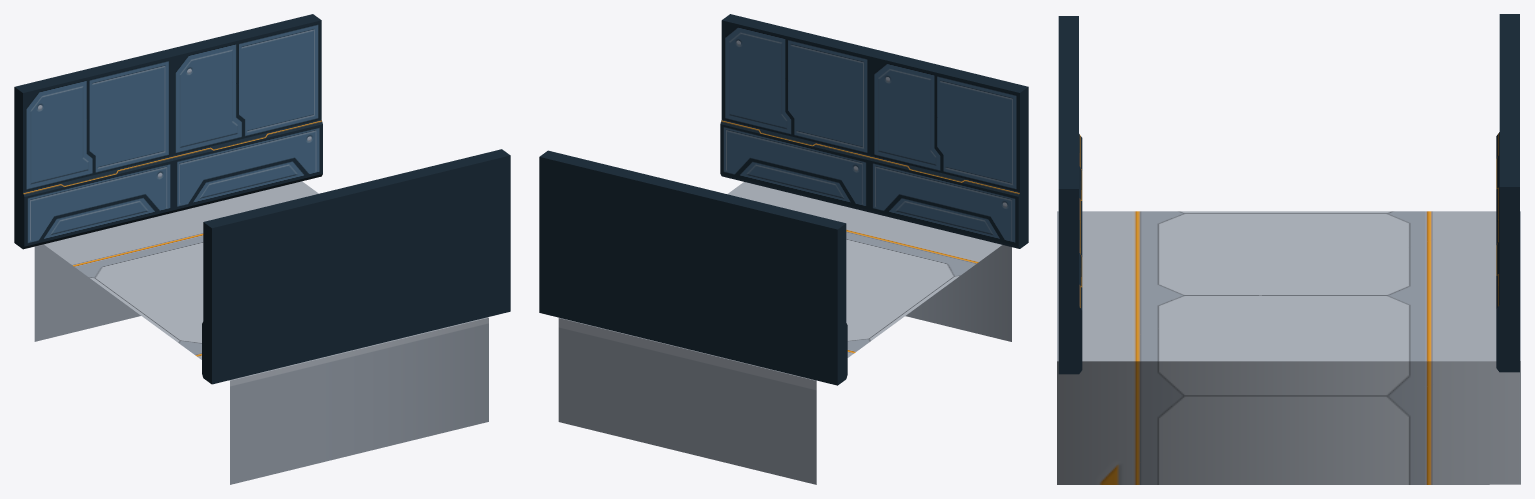
Rendered from lorong2.dae.
3 renders of one model, left to right at view 1: azimuth 30°, elevation 25°; view 2: azimuth 150°, elevation 25°; view 3: azimuth 270°, elevation 25°, orthographic. The views are drawn at different scales.
Parts seen in each view (by area): view 1: Cube.098, Cube.134, Cube.135; view 2: Cube.098, Cube.134, Cube.135; view 3: Cube.135, Cube.098, Cube.134.
Boxes of the visible parts, x1,y1,x2,y2 form: Cube.098: (202, 149, 510, 384); Cube.134: (14, 14, 322, 249); Cube.135: (34, 181, 488, 484); Cube.098: (720, 14, 1028, 248); Cube.134: (539, 150, 847, 385); Cube.135: (558, 182, 1011, 484); Cube.135: (1057, 211, 1520, 484); Cube.098: (1058, 16, 1082, 374); Cube.134: (1496, 14, 1519, 372).
Size of the model in its own units: 6.06 by 6.8 by 5.
